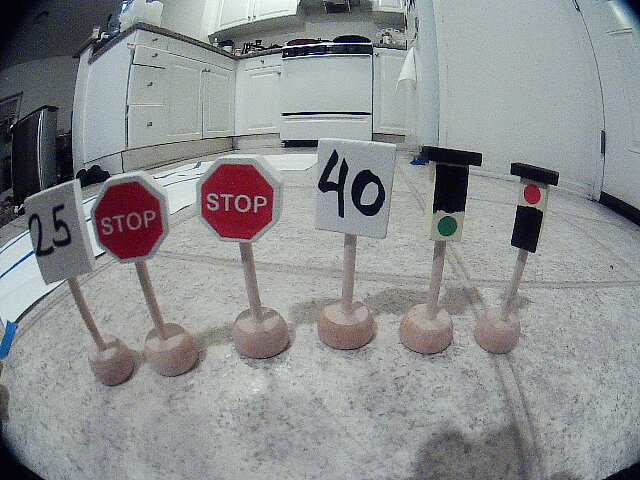Green Traffic Light: (416, 130, 491, 263)
Red Traffic Light: (505, 145, 570, 274)
Speed Limit 25: (13, 192, 97, 289)
Speed Limit 40: (307, 128, 406, 251)
Stop Sign: (178, 147, 306, 257), (82, 169, 194, 278)
